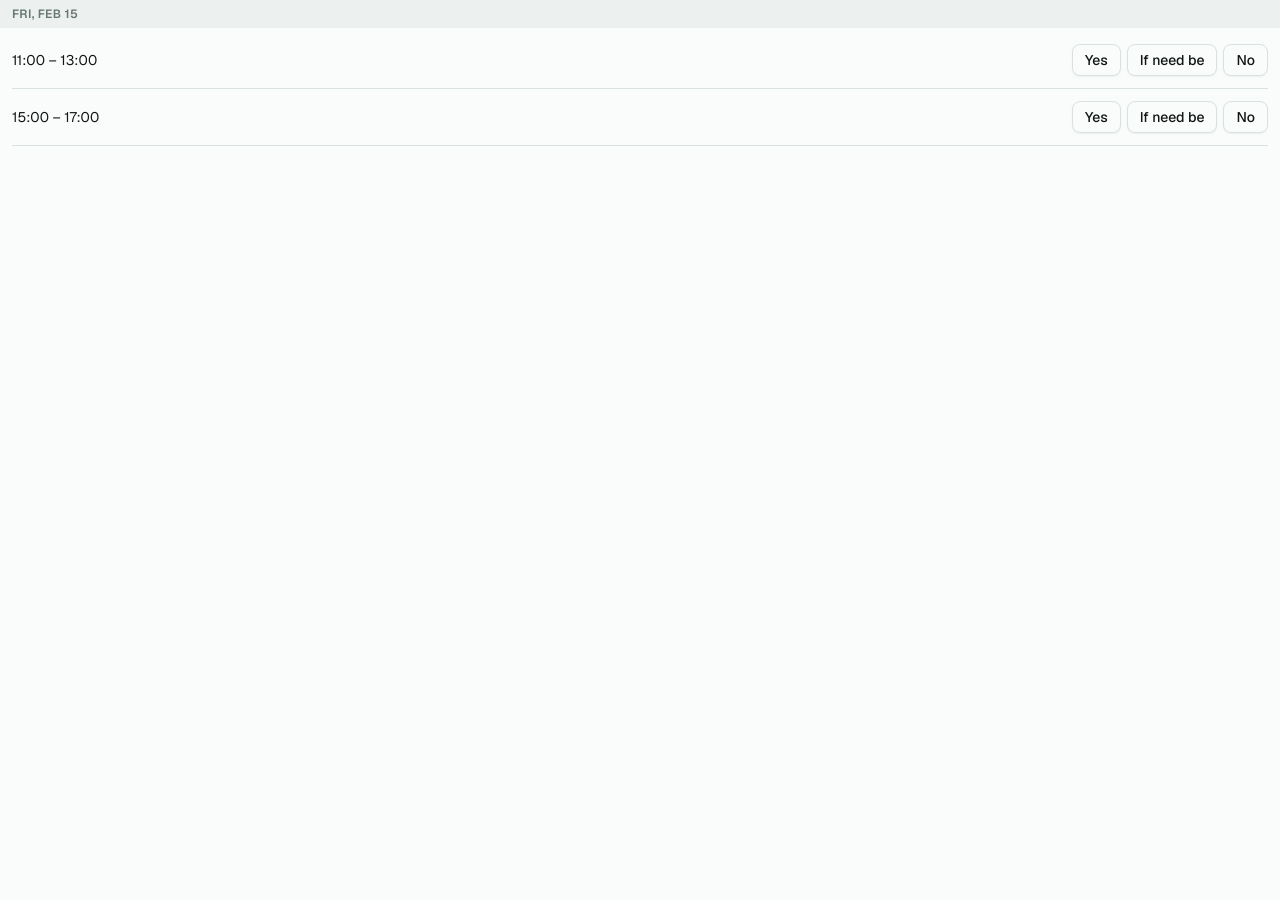
Test case: AvailabilityForm › shows error message on submit failure
Click the button "Yes" in the row of "13:00" at [1096, 60], box [1072,44,1121,76]
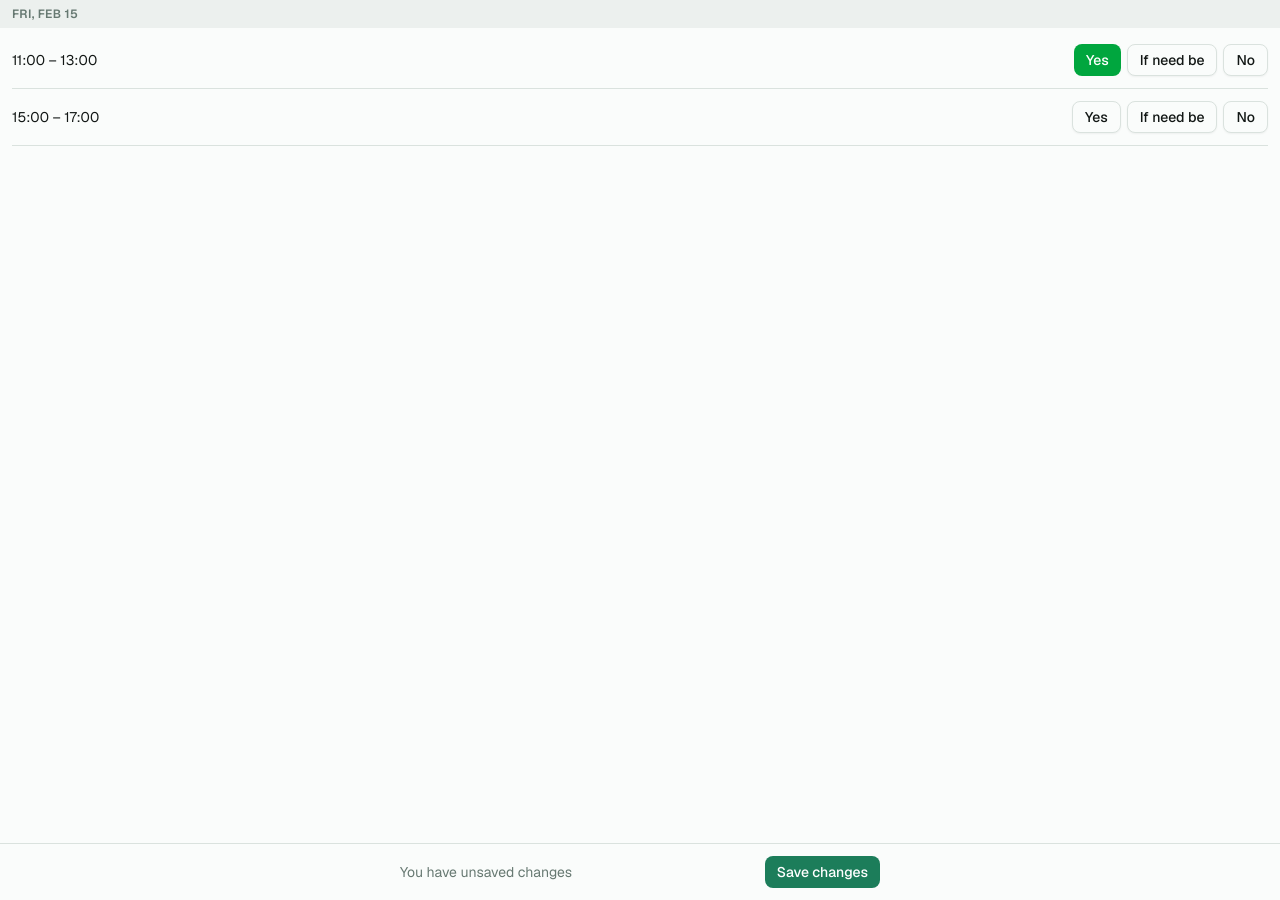
Click the button "Save changes" at [822, 872], box [765,856,880,888]
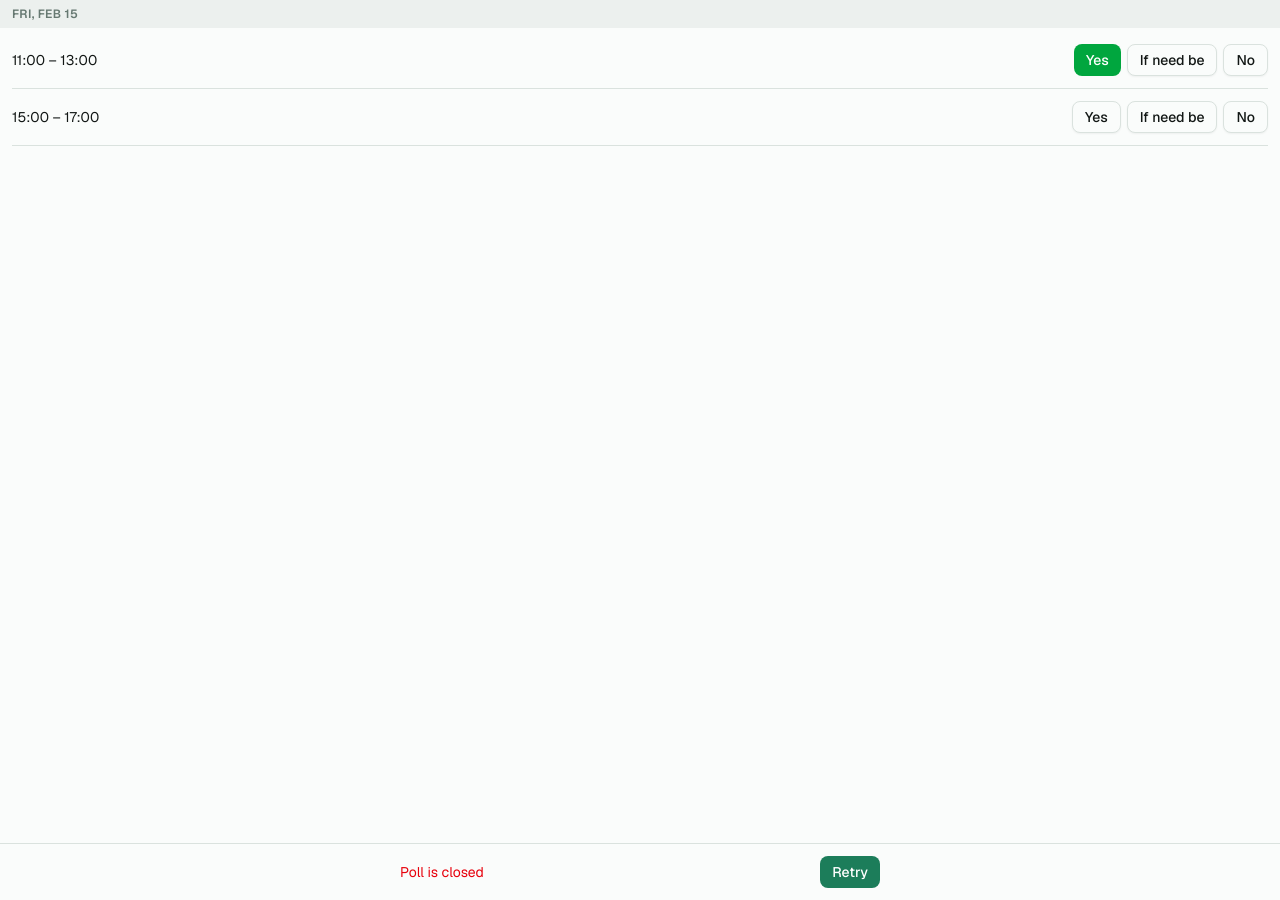
Expected: the text "Poll is closed" is shown, [400,862,484,882]
